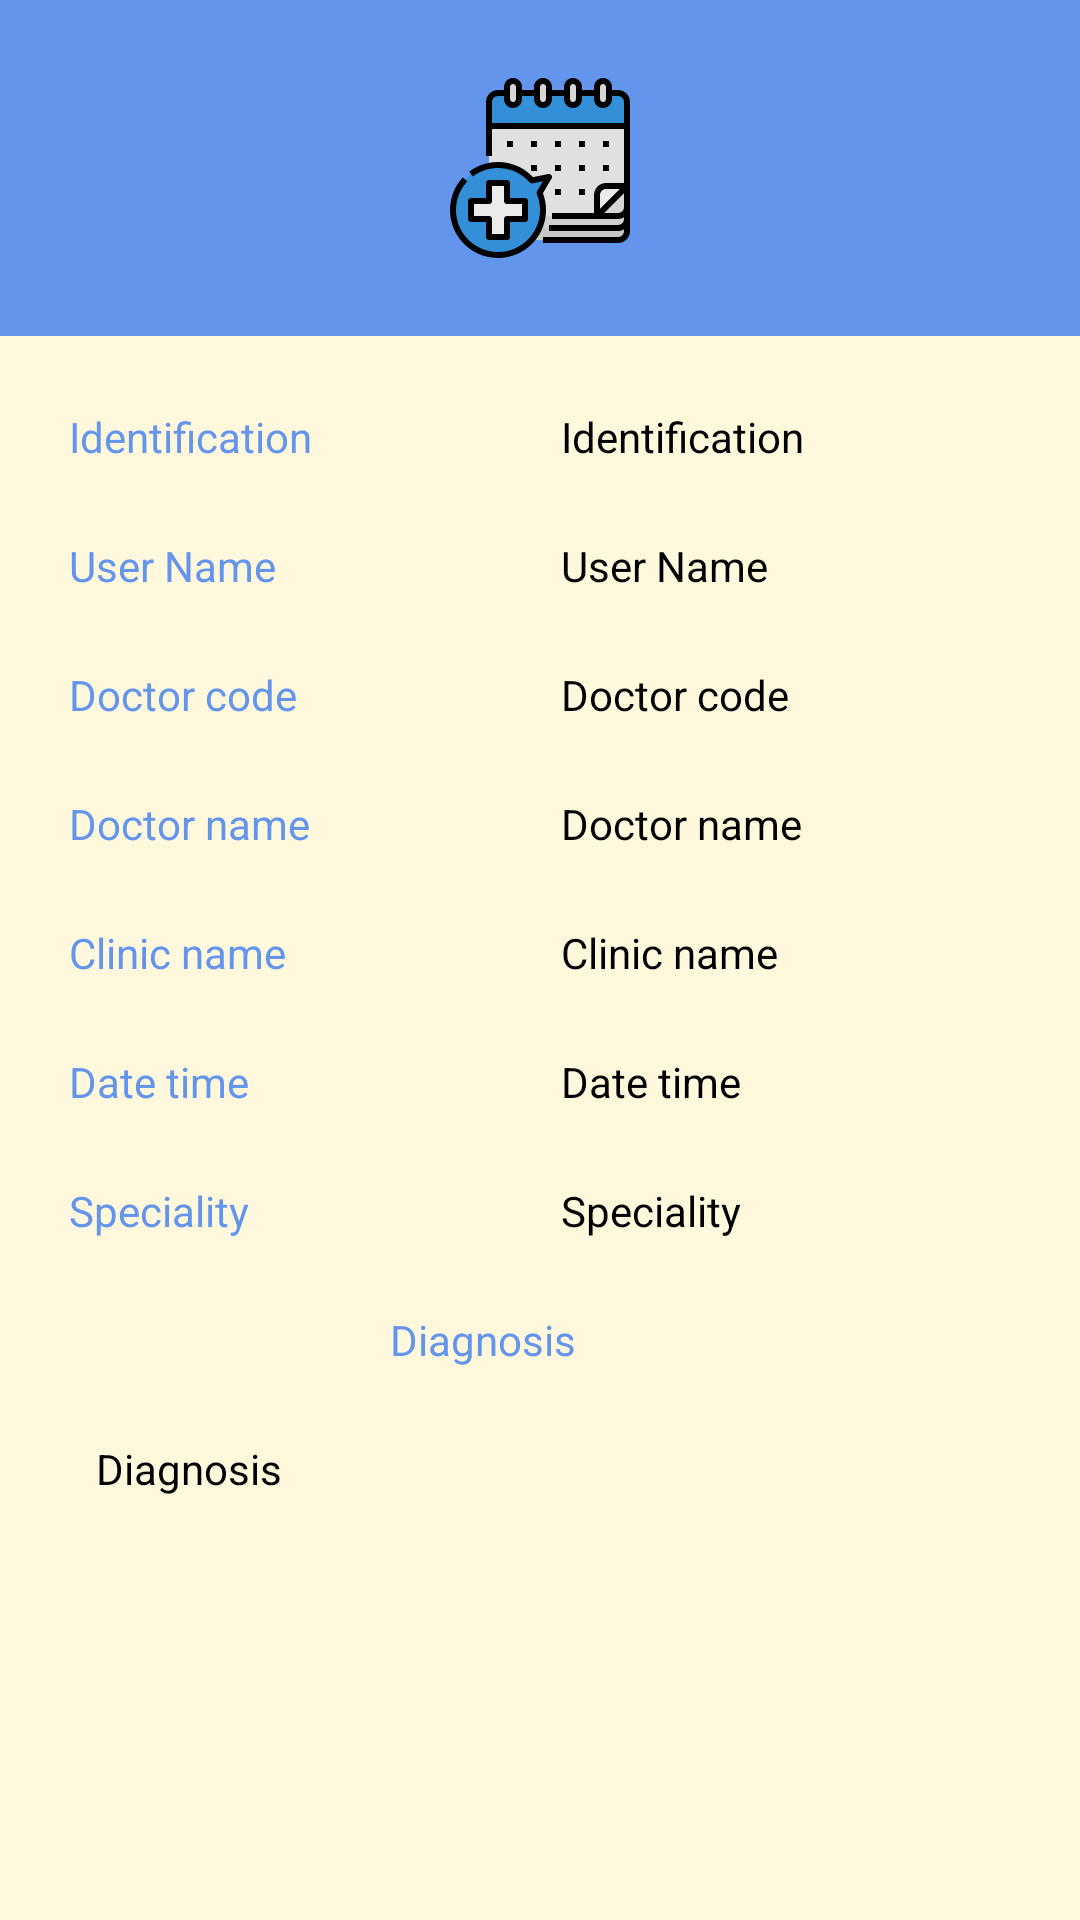

Screen size 1080 × 1920. Icon name, then its center in pixels as (x,y):
appointment: (540,168)
